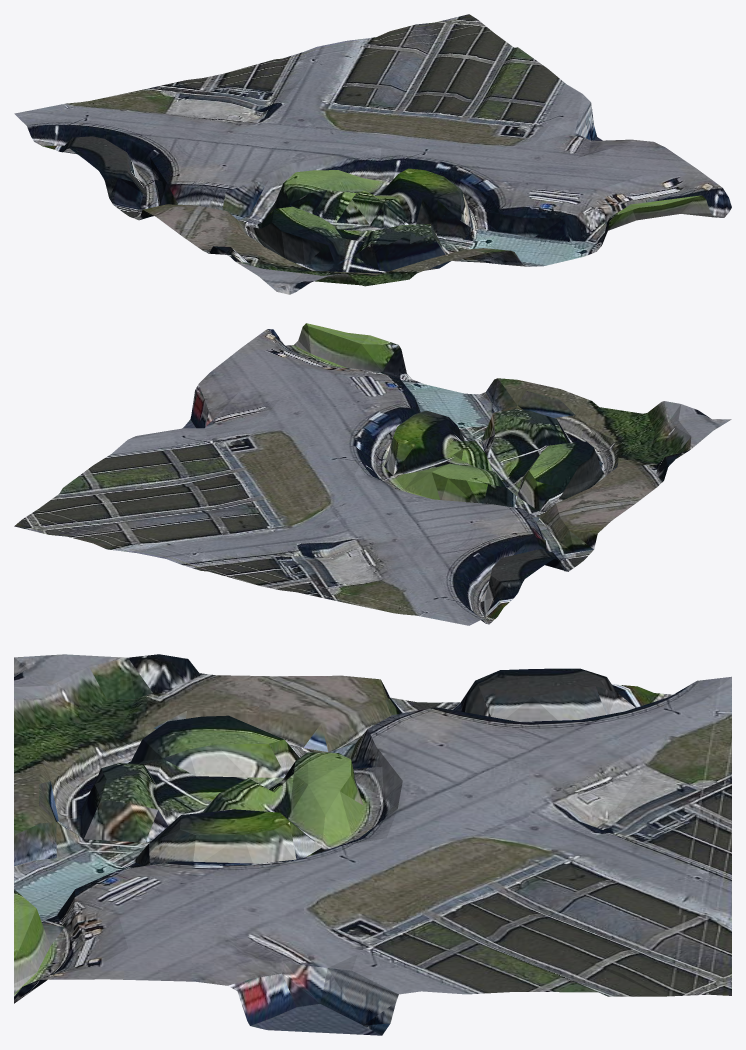
The model's file is map_15_8180_13777.dae.
3 renders of one model, top to bottom at view 1: azimuth 30°, elevation 25°; view 2: azimuth 150°, elevation 25°; view 3: azimuth 270°, elevation 25°, orthographic. The views are drawn at different scales.
Visible parts, largest first — view 1: Ter0; view 2: Ter0; view 3: Ter0.
Boxes of the visible parts, x1=… form: Ter0: x1=14, y1=14, x2=731, y2=294; Ter0: x1=14, y1=323, x2=731, y2=625; Ter0: x1=14, y1=654, x2=731, y2=1035.
Size of the model in its own units: 63.88 by 63.88 by 7.75.
3 materials, 3 textured.
